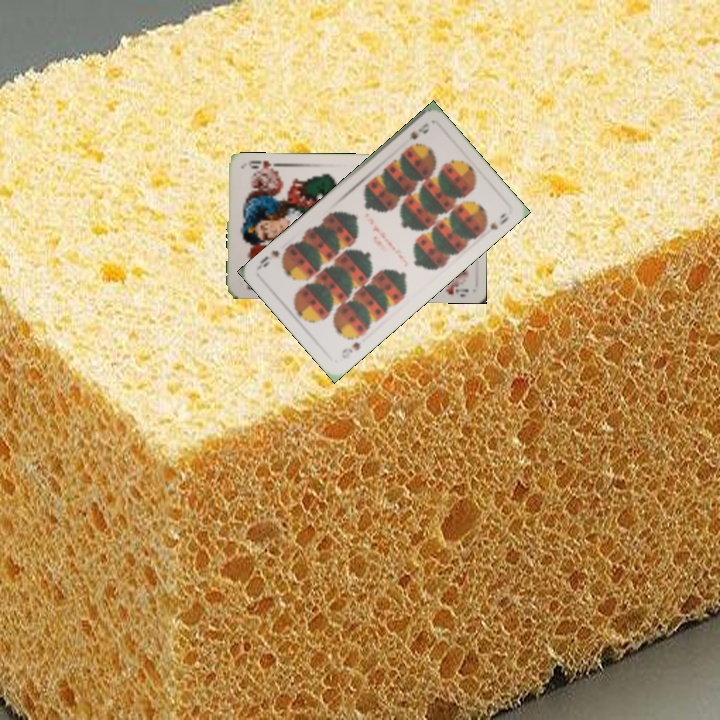S9: (405, 119, 432, 143), (337, 338, 363, 362)
